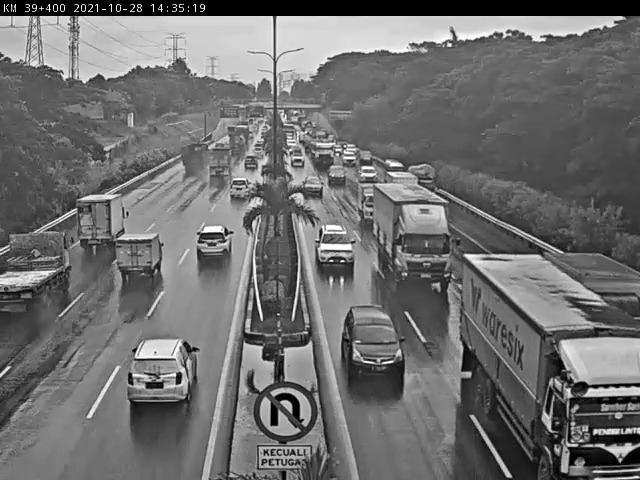big truck: (453, 243, 640, 480), (369, 181, 450, 291), (171, 141, 207, 184), (209, 144, 233, 187)
car: (104, 327, 214, 415), (331, 305, 409, 385), (107, 226, 173, 296), (182, 220, 244, 269), (317, 217, 359, 275), (353, 184, 383, 223), (223, 181, 253, 209), (298, 167, 325, 194), (322, 158, 348, 184)
small truck: (536, 228, 640, 311), (1, 237, 74, 343), (60, 188, 130, 254)
